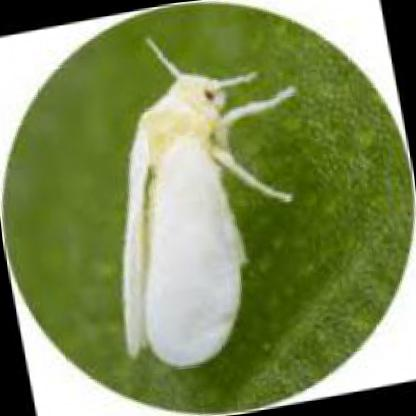whitefly: (120, 74, 244, 367)
